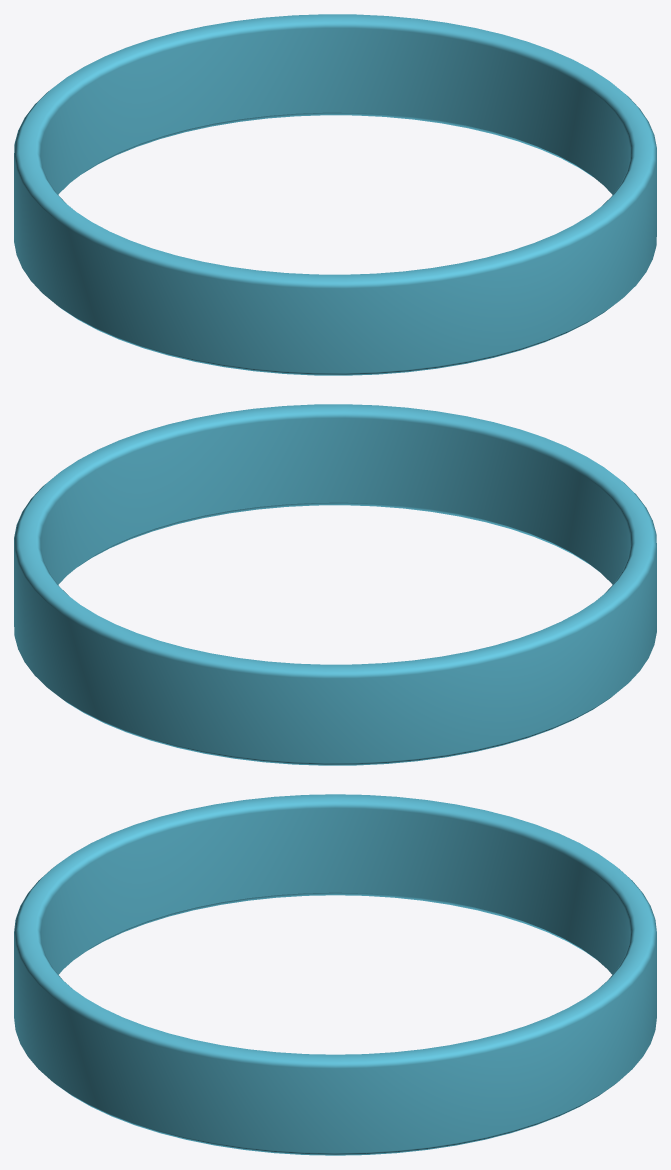
The picture shows the model from 3 angles, top to bottom: view 1: azimuth 30°, elevation 25°; view 2: azimuth 150°, elevation 25°; view 3: azimuth 270°, elevation 25°; orthographic projection.
Parts seen in each view (by area): view 1: seal_body; view 2: seal_body; view 3: seal_body.
Boxes of the visible parts, left/top/right/bottom form: seal_body: left=14, top=14, right=656, bottom=375; seal_body: left=14, top=404, right=656, bottom=765; seal_body: left=14, top=794, right=656, bottom=1155.
Bounding box in the file's own units: 0.06 × 0.0097 × 0.06.
